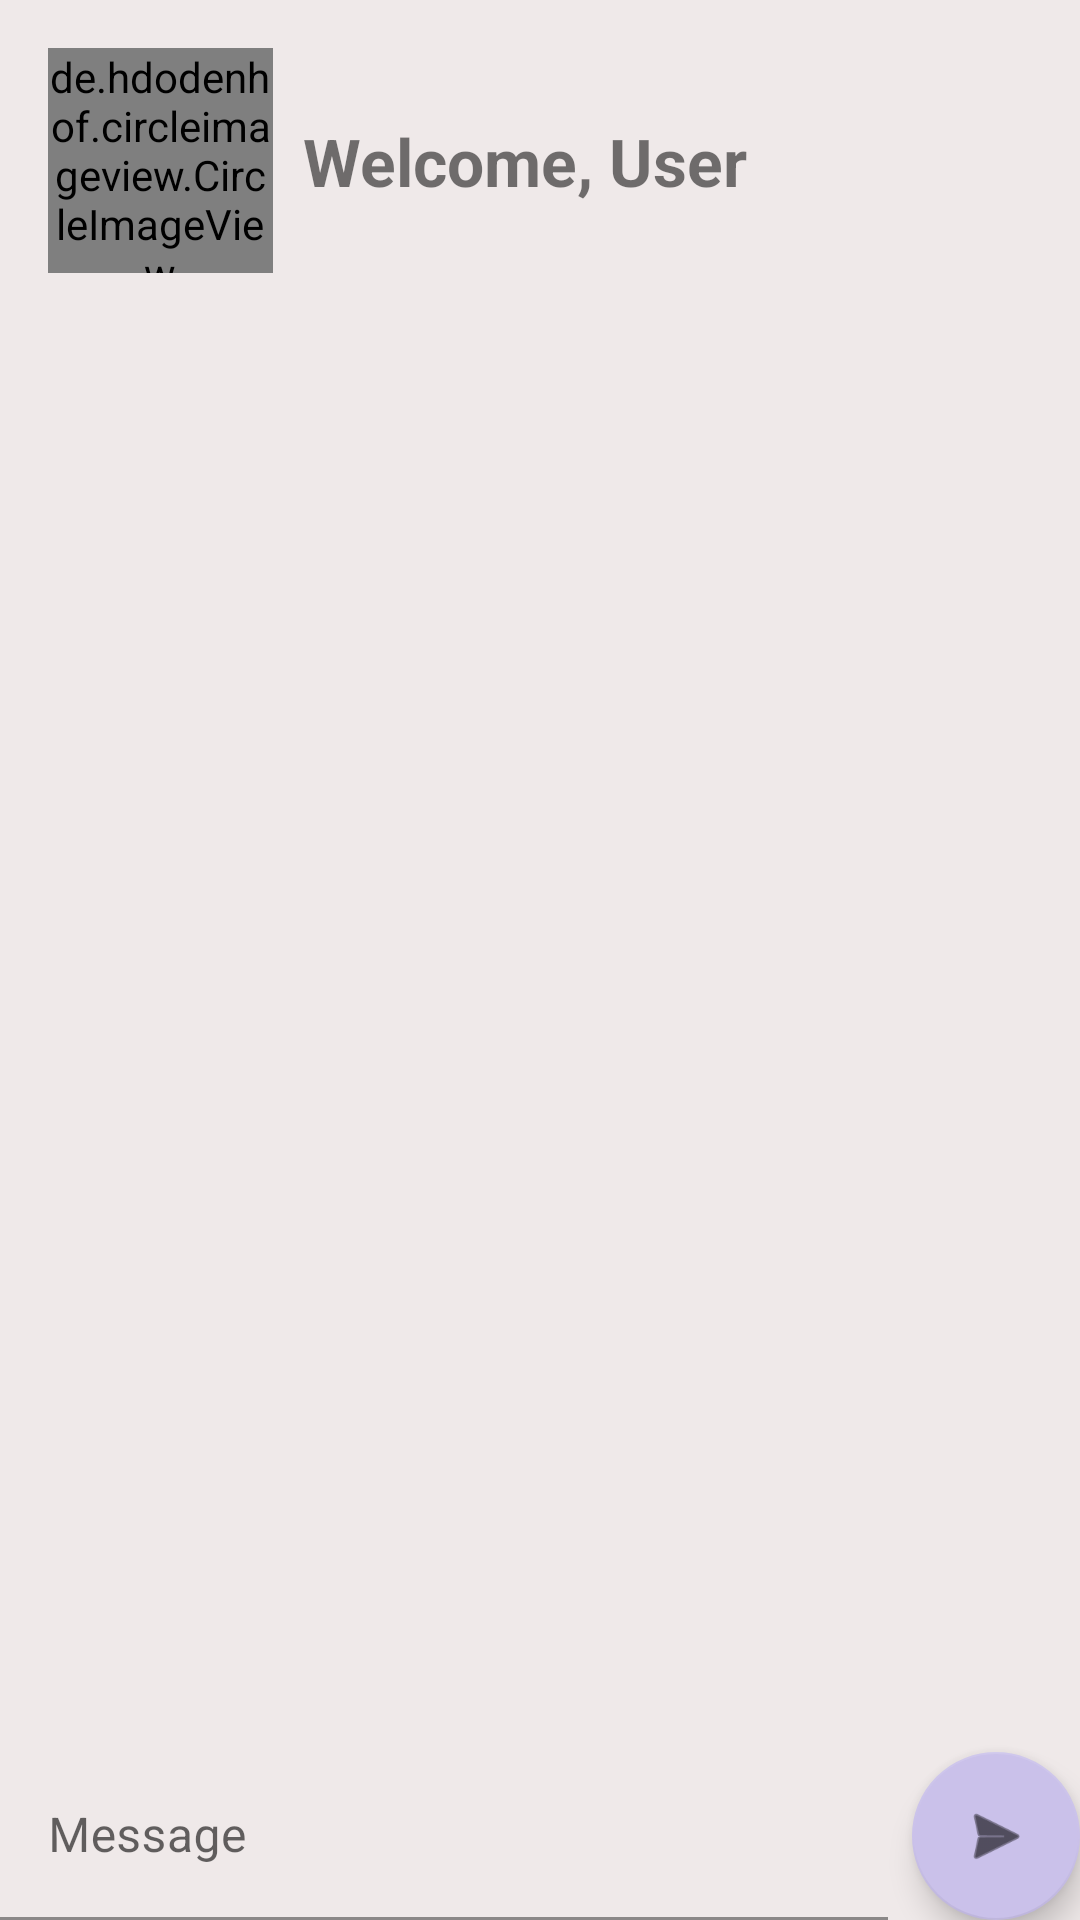

Locate icon controls on the screen. Image size 1080×1920, boxes as box(x1, y1, x2, y2).
send: box(912, 1752, 1080, 1920)
